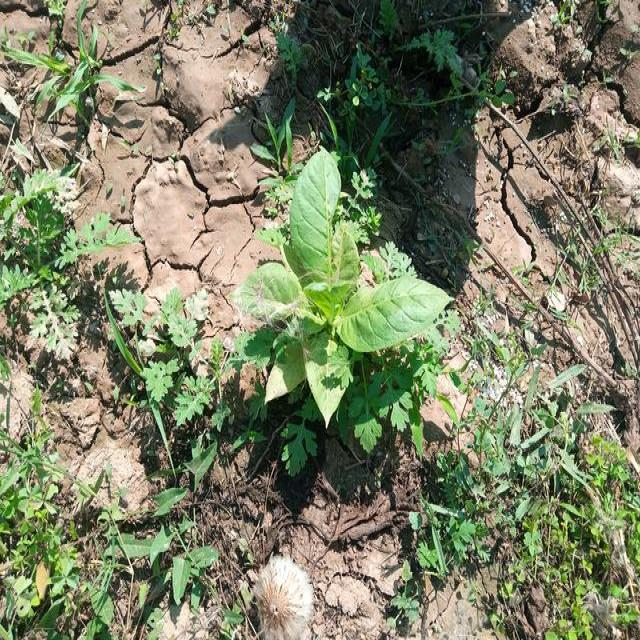crop: (238, 157, 442, 420)
